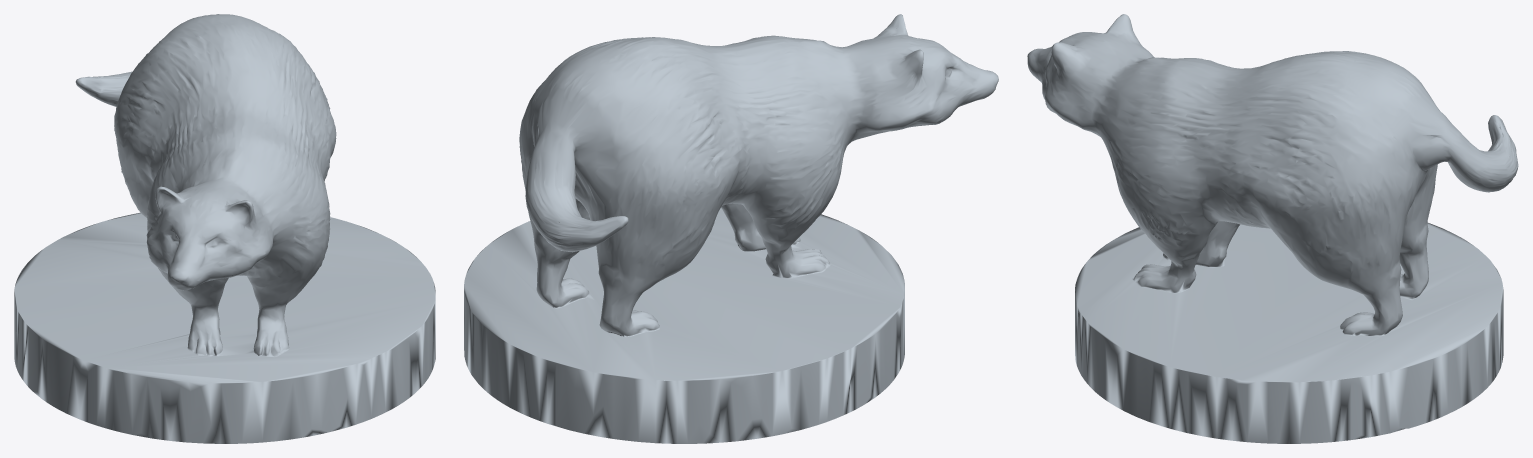
File: badger.glb
3 renders of one model, left to right at view 1: azimuth 30°, elevation 25°; view 2: azimuth 150°, elevation 25°; view 3: azimuth 270°, elevation 25°, orthographic. The views are drawn at different scales.
Visible parts, largest first — view 1: Badger_SeamsColor.001; view 2: Badger_SeamsColor.001; view 3: Badger_SeamsColor.001.
Boxes of the visible parts, x1,y1,x2,y2 form: Badger_SeamsColor.001: (14, 14, 435, 443); Badger_SeamsColor.001: (464, 14, 998, 443); Badger_SeamsColor.001: (1027, 14, 1518, 443).
Bounding box in the file's own units: 16.37 × 12.96 × 18.75.
1 material, 1 textured.
